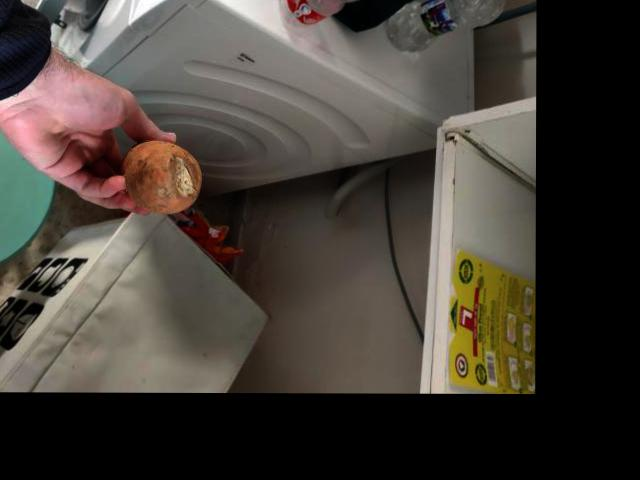sweet_potato: (114, 141, 199, 208)
